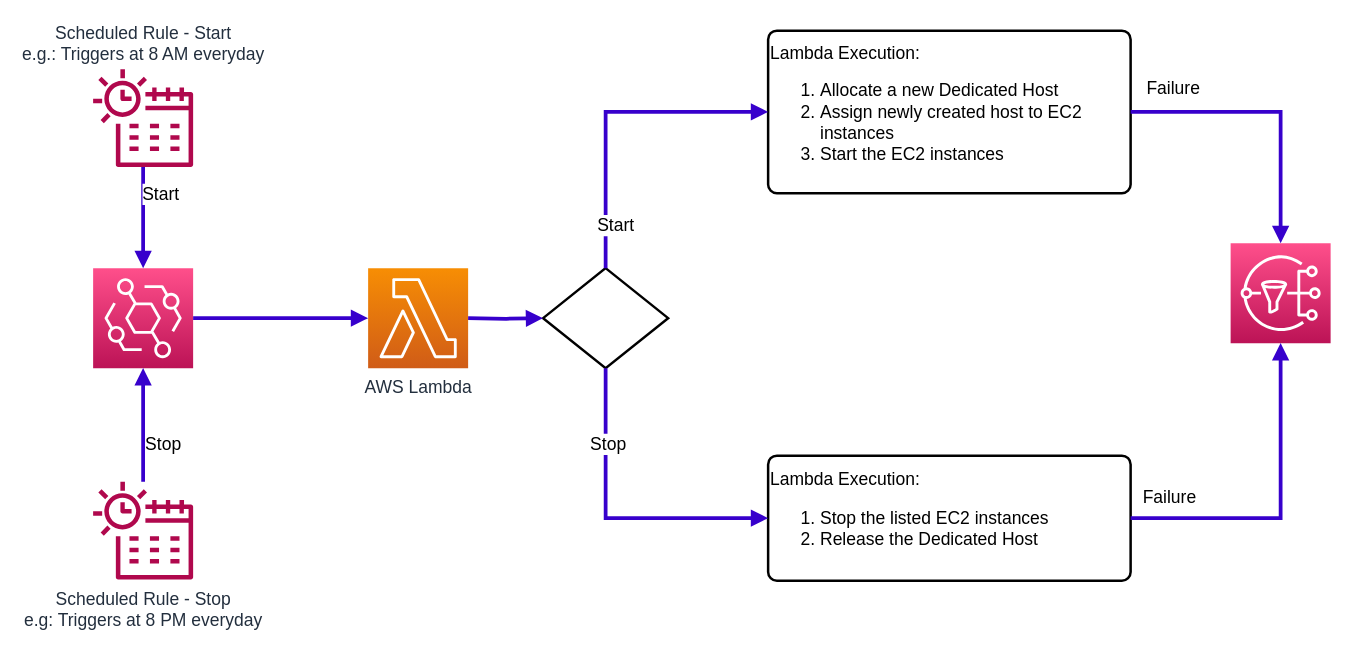
This 1353x653 diagram has some shape labels left out. The centre of each missing label's shape, as x and y in pixels:
Amazon EventBridge: (x=142, y=317)
Event Type: (x=605, y=317)
SNS: (x=1280, y=292)
